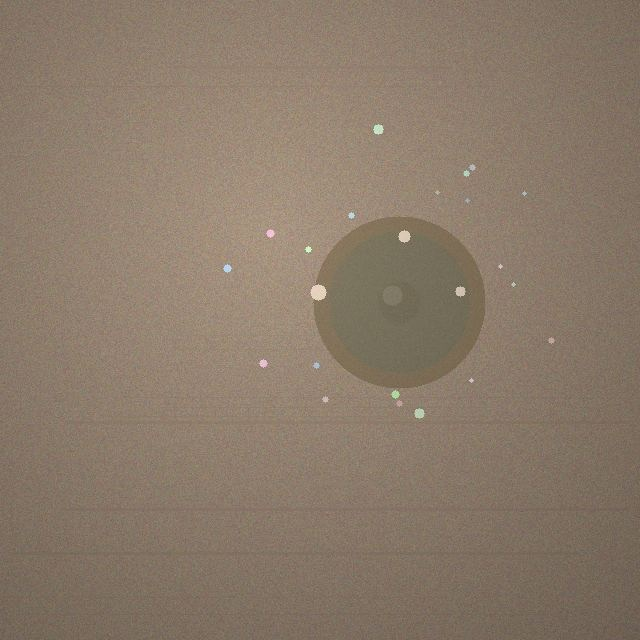overburn: (313, 216, 485, 388)
